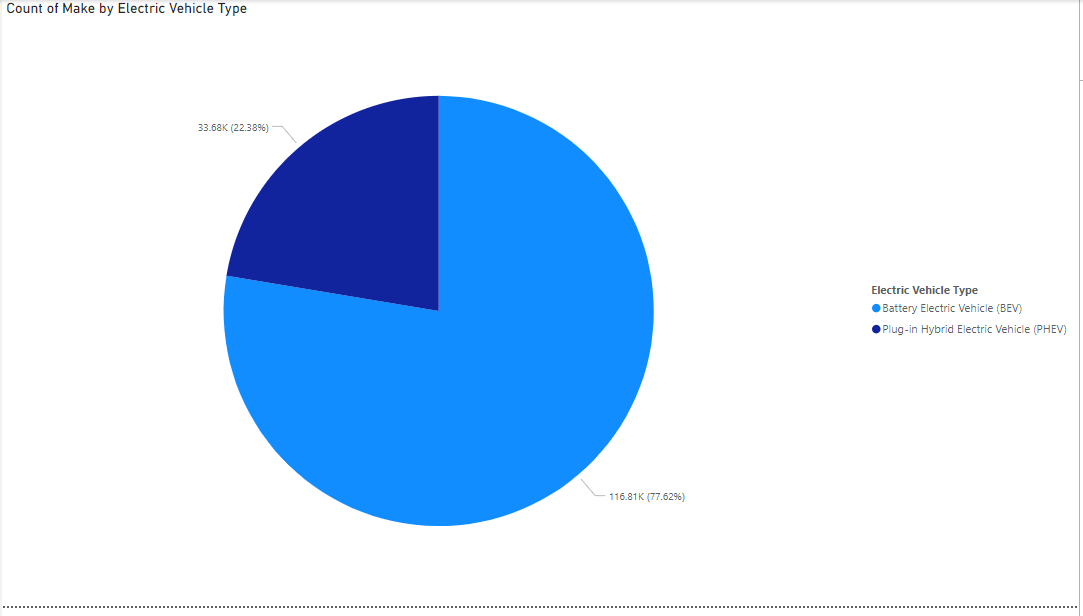

What the dashboard file says about the page in this screenshot:
{"tool":"powerbi","page":{"name":"Page 3","canvas":[1280,720],"ordinal":2},"visuals":[{"type":"pieChart","fields":{"Category":["Electric_Vehicle_Population_Data.Electric Vehicle Type"],"Y":["CountNonNull(Electric_Vehicle_Population_Data.Make)"]},"box":[0,0,1280,720.2],"z":0}]}

Visuals, with their boxes in screenshot pixels (x1, y1, x2, y2), scaled from the page's 1280x720 canvas onto the 1083x616 screenshot:
pieChart - Electric_Vehicle_Population_Data.Electric Vehicle Type x CountNonNull(Electric_Vehicle_Population_Data.Make): select_region(0, 0, 1082, 615)
